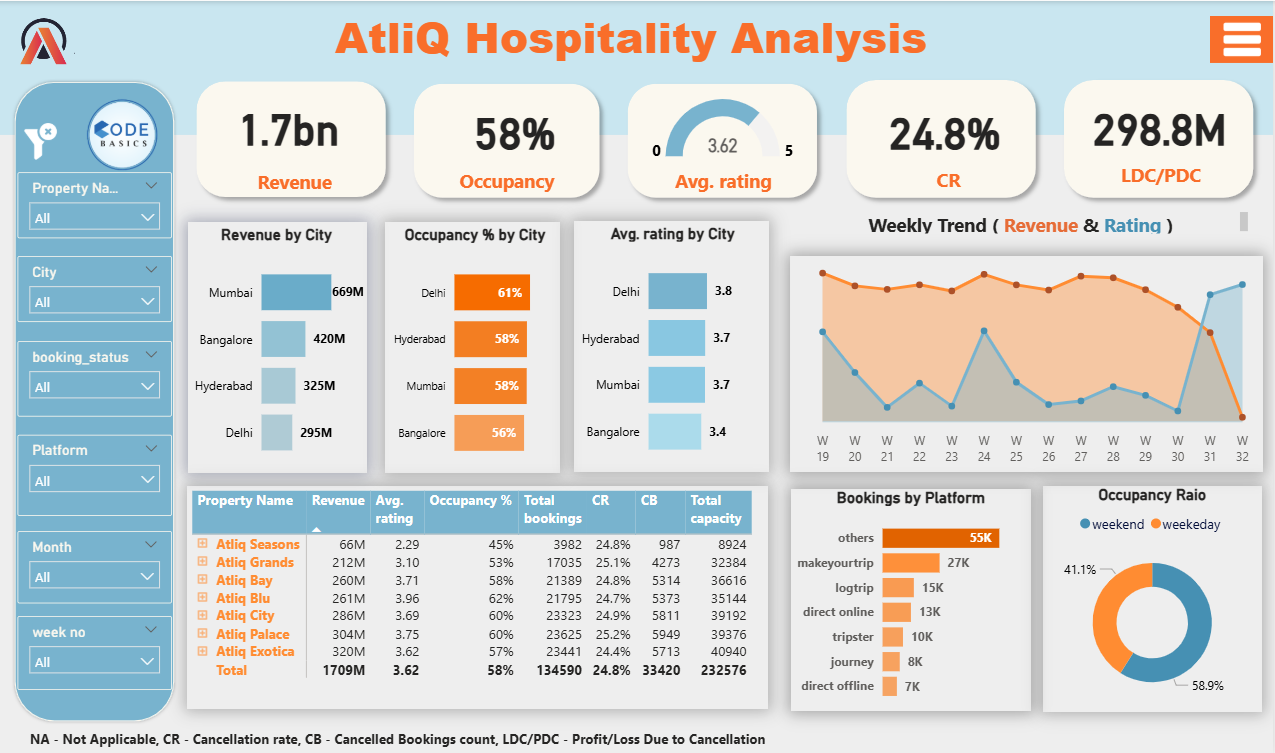

Layout of this report page (visuals, bound fields, positions):
{"tool":"powerbi","page":{"name":"Overall","canvas":[1280,760],"ordinal":0},"visuals":[{"type":"shape","box":[0,0,1280,134.4],"z":0},{"type":"textbox","box":[2.5,0,1278.1,75.7],"z":0,"group":"g1"},{"type":"shape","title":"blue menu","box":[999.8,0,280.2,759.3],"z":0,"group":"g3"},{"type":"actionButton","title":"Monthly analysis","box":[1020,230.9,241.7,39.8],"z":500,"group":"g2"},{"type":"shape","title":"organge transprent","box":[0,0,999.8,759.3],"z":1000,"group":"g3"},{"type":"group","id":"g1","title":"visuals","box":[2.5,0,1278.1,727.6],"z":1000},{"type":"shape","box":[1061,70.1,208.3,136.3],"z":1000,"group":"g1"},{"type":"actionButton","title":"Overall analysis","box":[1022,96.7,242.4,39.8],"z":1000,"group":"g2"},{"type":"image","title":"arrow","box":[956.2,3.8,68.2,66.3],"z":2000,"group":"g3"},{"type":"shape","box":[841.8,70.1,208.3,136.3],"z":2000,"group":"g1"},{"type":"actionButton","title":"Monthly analysis","box":[1022,161.1,242.4,39.8],"z":2000,"group":"g2"},{"type":"textbox","box":[437.3,163.4,144.5,44],"z":2000},{"type":"textbox","title":"page navg","box":[1011.1,11.4,255.6,49.2],"z":3000,"group":"g3"},{"type":"shape","box":[622.6,73.8,208.3,132.5],"z":3000,"group":"g1"},{"type":"textbox","box":[880.3,161.6,145.1,44.5],"z":3000},{"type":"shape","box":[407.2,73.8,204.5,132.5],"z":4000,"group":"g1"},{"type":"group","id":"g2","title":"Navg. buttons","box":[1020,96.7,245,175],"z":4000,"group":"g3"},{"type":"textbox","box":[1094.7,156.6,145.1,44.5],"z":4000},{"type":"textbox","box":[224.2,164.9,145.1,39.6],"z":5000},{"type":"clusteredBarChart","title":"Revenue by City","fields":{"Category":["dim_hotels.city"],"Y":["resource_measures.revenue"]},"box":[188.4,222.1,181,251.7],"z":5000,"group":"g1"},{"type":"card","fields":{"Values":["resource_measures.Occupancy %"]},"box":[456.9,96.6,119.3,64.4],"z":6000,"group":"g1"},{"type":"textbox","box":[654.5,163.2,145.1,44.5],"z":6000},{"type":"textbox","box":[801.7,207.3,457.4,31.4],"z":6500},{"type":"textbox","box":[24.7,727,1063.3,33],"z":6750},{"type":"group","id":"g3","title":"Navig. menu","box":[0,0,1280,759.3],"z":7000},{"type":"clusteredBarChart","title":"Occupancy % by City","fields":{"Category":["dim_hotels.city"],"Y":["resource_measures.Occupancy %"]},"box":[386.6,222.6,176.4,252.2],"z":7000,"group":"g1"},{"type":"gauge","fields":{"MaxValue":["resource_measures.max.rating"],"MinValue":["resource_measures.min.rating"],"Y":["resource_measures.avg.rating mod"]},"box":[645.5,87.4,161.6,84.1],"z":8000,"group":"g1"},{"type":"clusteredBarChart","title":"Avg. rating by City","fields":{"Category":["dim_hotels.city"],"Y":["resource_measures.Avg. rating"]},"box":[576.2,220.9,196.2,252.2],"z":9000,"group":"g1"},{"type":"image","box":[17.6,113.1,46.5,56.5],"z":10000},{"type":"donutChart","title":"Occupancy Raio","fields":{"Category":["dim_date.day_type"],"Y":["resource_measures.Occupancy %"]},"box":[1047.7,488,220.9,227.5],"z":10000,"group":"g1"},{"type":"areaChart","title":"Weekly Trend (Revenue & Rating)","fields":{"Category":["dim_date.week no"],"Y2":["resource_measures.Avg. rating"],"Y":["resource_measures.revenue"]},"box":[794.8,256.4,475,217.4],"z":11000,"group":"g1"},{"type":"clusteredBarChart","title":"Bookings by Platform","fields":{"Category":["fact_bookings.booking_platform"],"Y":["resource_measures.Total bookings"]},"box":[795.5,489.6,240.7,224.2],"z":12000,"group":"g1"},{"type":"pivotTable","fields":{"Rows":["dim_hotels.property_name","dim_hotels.city"],"Values":["resource_measures.revenue","resource_measures.Avg. rating","resource_measures.Occupancy %","resource_measures.Total bookings","resource_measures.CR","resource_measures.Total cancelled bookings","resource_measures.Total capacity"]},"box":[188.8,488,583.6,224.2],"z":13000,"group":"g1"},{"type":"shape","box":[11.3,77.9,167.1,649.7],"z":14000,"group":"g1"},{"type":"slicer","fields":{"Values":["dim_date.week no"]},"box":[17.3,618.2,155,74.2],"z":15000,"group":"g1"},{"type":"slicer","fields":{"Values":["dim_date.mmm yy.Variation.Date Hierarchy.Month"]},"box":[17.3,532.5,155,72.5],"z":16000,"group":"g1"},{"type":"slicer","fields":{"Values":["fact_bookings.booking_platform"]},"box":[17.6,435.8,155.3,81.4],"z":17000,"group":"g1"},{"type":"slicer","fields":{"Values":["fact_bookings.booking_status"]},"box":[17.6,341.5,155.3,75.7],"z":18000,"group":"g1"},{"type":"slicer","fields":{"Values":["dim_hotels.city"]},"box":[17.6,256.7,155.3,66.3],"z":19000,"group":"g1"},{"type":"slicer","fields":{"Values":["dim_hotels.property_name"]},"box":[17.6,171.9,155.3,66.3],"z":20000,"group":"g1"},{"type":"card","fields":{"Values":["resource_measures.LDC"]},"box":[1091.1,87.4,150,74.2],"z":21000,"group":"g1"},{"type":"card","fields":{"Values":["resource_measures.CR"]},"box":[871.6,77.6,155.3,102.2],"z":22000,"group":"g1"},{"type":"shape","box":[188.1,72,208.3,134.4],"z":23000,"group":"g1"},{"type":"card","fields":{"Values":["resource_measures.revenue"]},"box":[209.2,87.4,163.2,74.2],"z":24000,"group":"g1"},{"type":"image","title":"atliq","box":[2.5,3.8,77.9,74.1],"z":25000,"group":"g1"},{"type":"image","title":"codebasics","box":[72.9,91.7,99.3,85.5],"z":26000,"group":"g1"},{"type":"image","title":"three dot menu","box":[1216.2,15.1,64.4,47.3],"z":27000,"group":"g1"}]}

Visuals, with their boxes in screenshot pixels (x1, y1, x2, y2), scaled from the page's 1280x760 canvas onto the 1275x753 screenshot:
shape: 0,0,1274,133
textbox: 2,0,1274,75
"blue menu" shape: 996,0,1274,752
"Monthly analysis" actionButton: 1016,229,1257,268
"organge transprent" shape: 0,0,996,752
"visuals" group: 2,0,1274,721
shape: 1057,69,1264,204
"Overall analysis" actionButton: 1018,96,1259,135
"arrow" image: 952,4,1020,69
shape: 839,69,1046,204
"Monthly analysis" actionButton: 1018,160,1259,199
textbox: 436,162,580,205
"page navg" textbox: 1007,11,1262,60
shape: 620,73,828,204
textbox: 877,160,1021,204
shape: 406,73,609,204
"Navg. buttons" group: 1016,96,1260,269
textbox: 1090,155,1235,199
textbox: 223,163,368,203
"Revenue by City" clusteredBarChart: 188,220,368,469
card - resource_measures.Occupancy %: 455,96,574,160
textbox: 652,162,796,206
textbox: 799,205,1254,237
textbox: 25,720,1084,752
"Navig. menu" group: 0,0,1274,752
"Occupancy % by City" clusteredBarChart: 385,221,561,470
gauge - resource_measures.max.rating x resource_measures.min.rating: 643,87,804,170
"Avg. rating by City" clusteredBarChart: 574,219,769,469
image: 18,112,64,168
"Occupancy Raio" donutChart: 1044,484,1264,709
"Weekly Trend (Revenue & Rating)" areaChart: 792,254,1265,469
"Bookings by Platform" clusteredBarChart: 792,485,1032,707
pivotTable - dim_hotels.property_name x dim_hotels.city: 188,484,769,706
shape: 11,77,178,721
slicer - dim_date.week no: 17,613,172,686
slicer - dim_date.mmm yy.Variation.Date Hierarchy.Month: 17,528,172,599
slicer - fact_bookings.booking_platform: 18,432,172,512
slicer - fact_bookings.booking_status: 18,338,172,413
slicer - dim_hotels.city: 18,254,172,320
slicer - dim_hotels.property_name: 18,170,172,236
card - resource_measures.LDC: 1087,87,1236,160
card - resource_measures.CR: 868,77,1023,178
shape: 187,71,395,204
card - resource_measures.revenue: 208,87,371,160
"atliq" image: 2,4,80,77
"codebasics" image: 73,91,172,176
"three dot menu" image: 1211,15,1274,62
